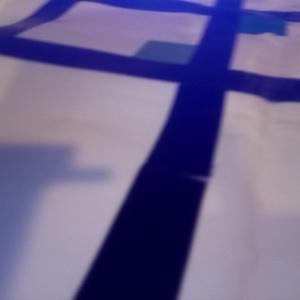bottom_right: (210, 11, 285, 36)
top_left: (132, 40, 227, 77)
